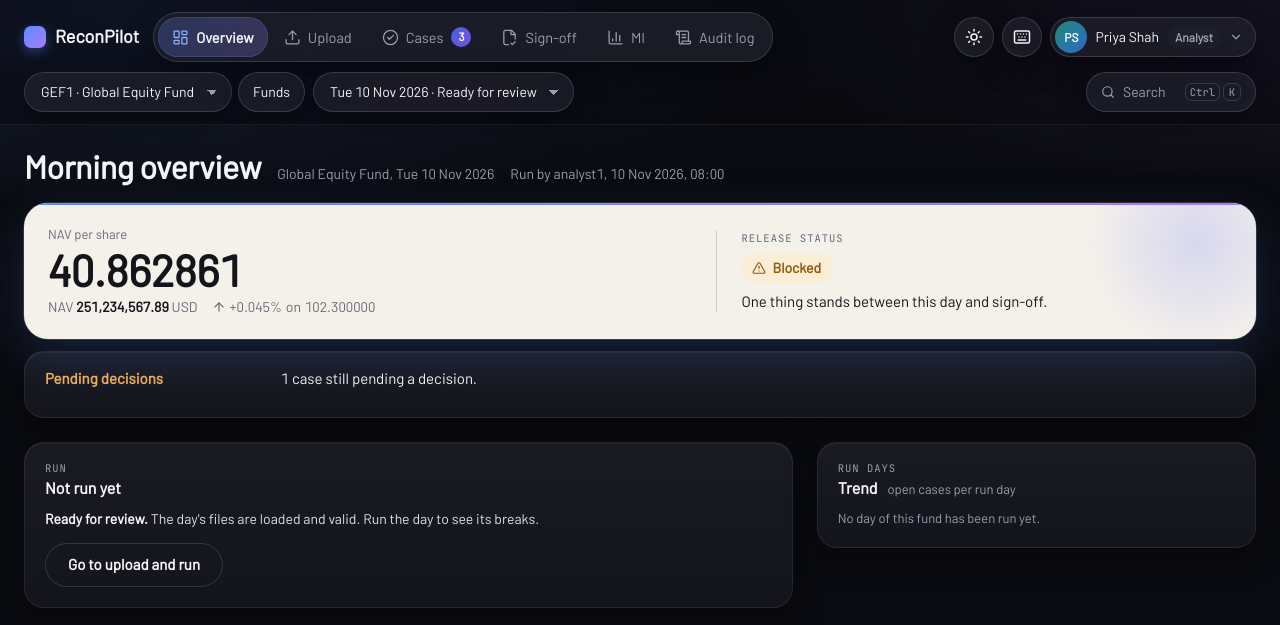
Test: app shell › switching the day updates the address and the overview's lead card
Select "Mon 9 Nov 2026 · Signed off" in the 2nd dropdown named "Business day" at {"x": 444, "y": 92}, box [313,72,574,112]
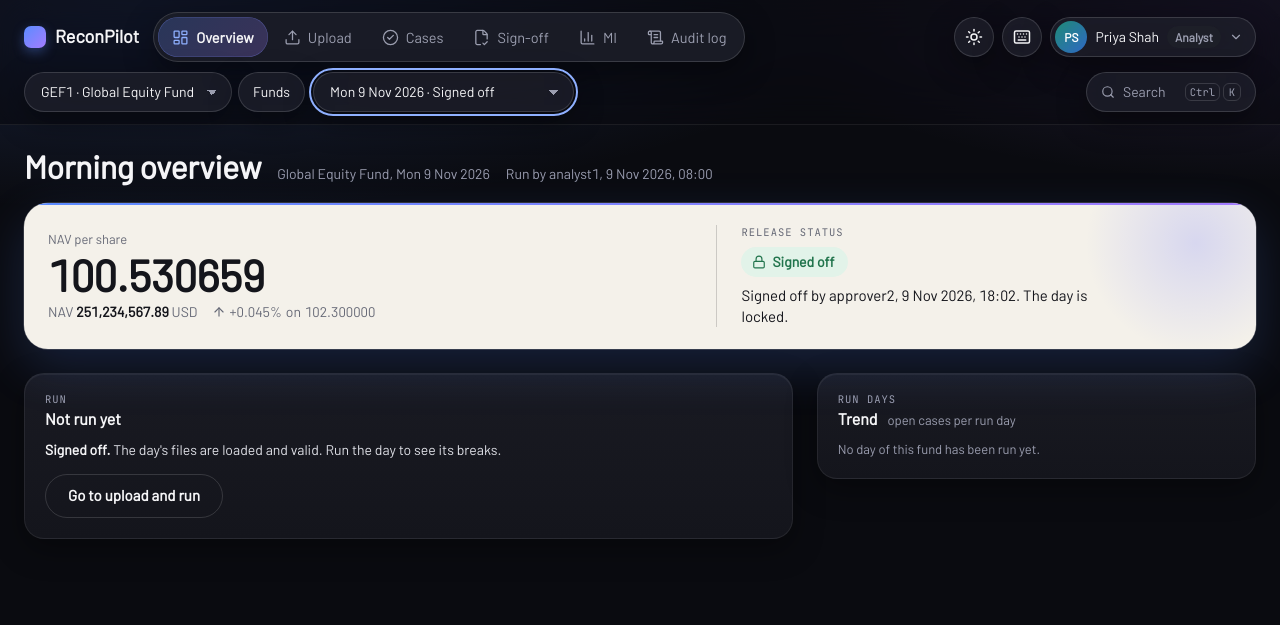
Expected: the text "251,234,567.89" is shown, [76,303,169,320]
Now the text "Signed off" is shown, box [741,247,848,277]
Now the text "Signed off by approver2," is shown, box [741,286,1087,325]
